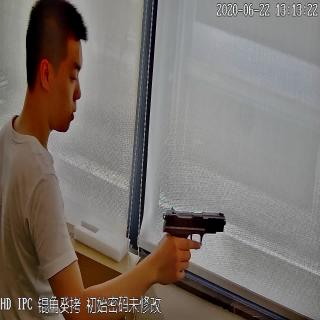gun: (156, 202, 229, 279)
